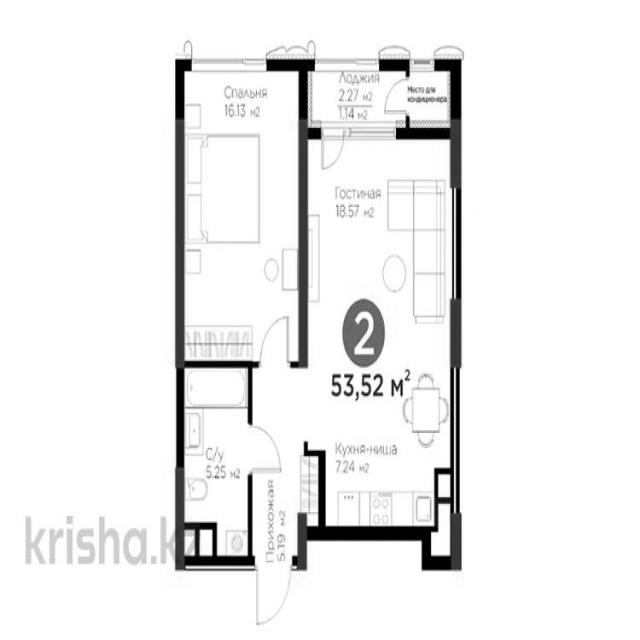balcony: (308, 68, 406, 121)
bathroom: (180, 368, 250, 558)
hallway: (252, 370, 302, 561)
living_room: (182, 71, 302, 360)
studio: (308, 142, 450, 524)
